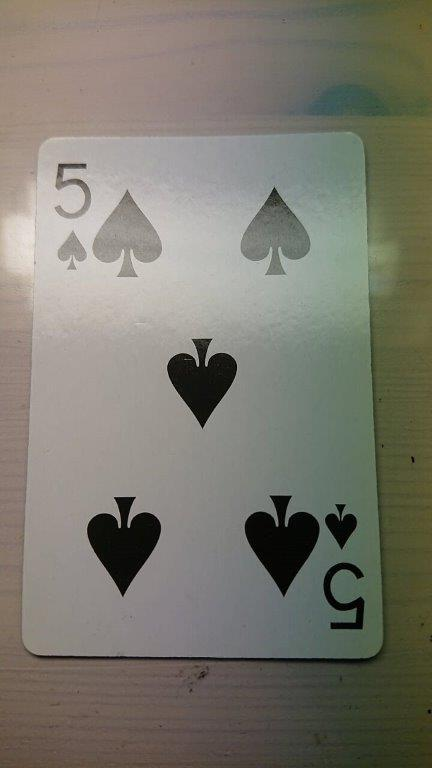5S: (19, 127, 387, 662)
